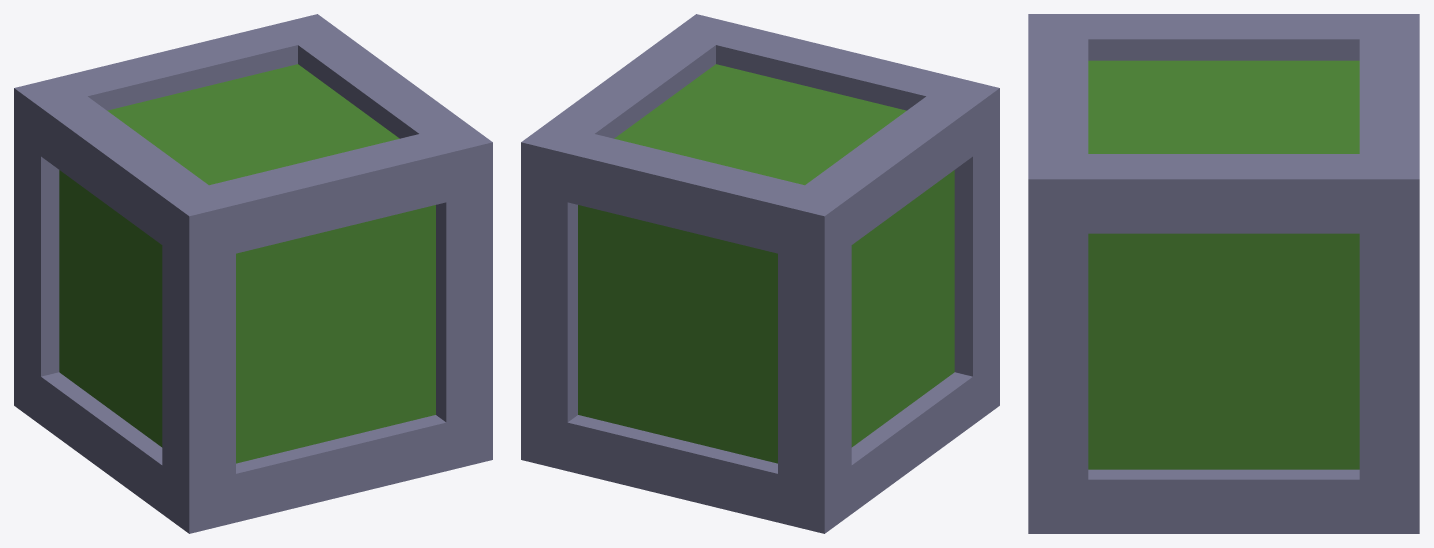
The picture shows the model from 3 angles, left to right: view 1: azimuth 30°, elevation 25°; view 2: azimuth 150°, elevation 25°; view 3: azimuth 270°, elevation 25°; orthographic projection. The views are drawn at different scales.
Parts seen in each view (by area): view 1: Caisse; view 2: Caisse; view 3: Caisse.
Boxes of the visible parts, box(x1,y1,x2,y2) form: Caisse: box(14, 14, 492, 533); Caisse: box(521, 14, 999, 533); Caisse: box(1028, 14, 1419, 533).
Bounding box in the file's own units: 50 × 50 × 50.
